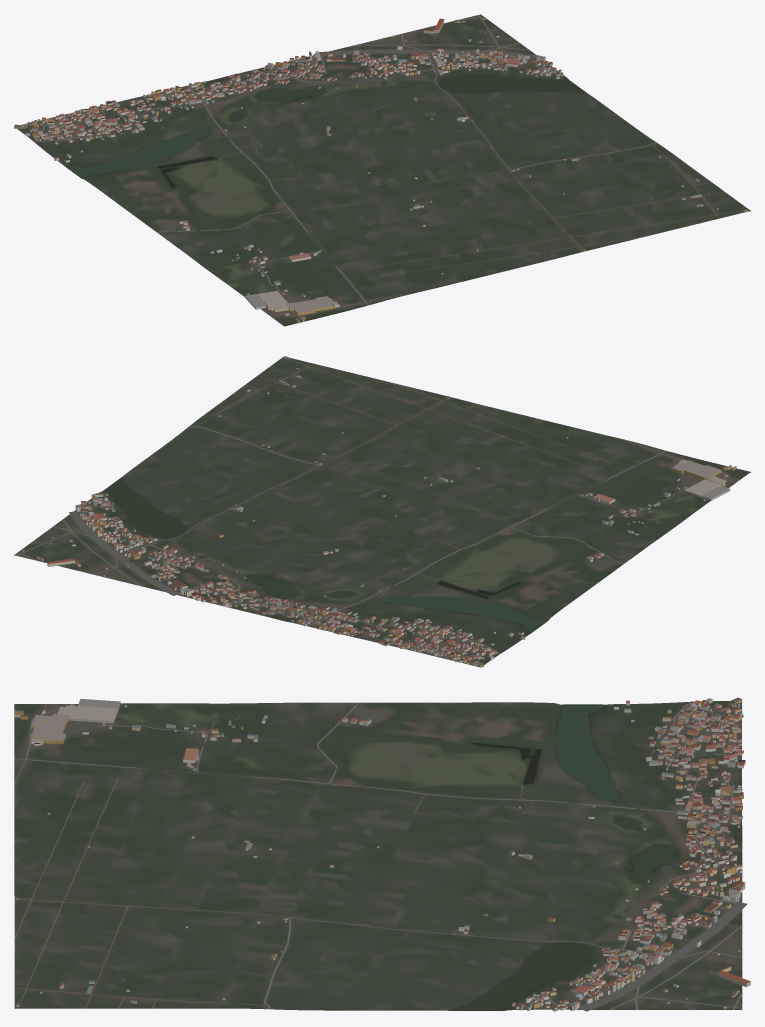
3 renders of one model, top to bottom at view 1: azimuth 30°, elevation 25°; view 2: azimuth 150°, elevation 25°; view 3: azimuth 270°, elevation 25°, orthographic. The views are drawn at different scales.
Parts seen in each view (by area): view 1: ground, buildings, water, roads; view 2: ground, buildings, water, roads; view 3: ground, buildings, water, roads.
Boxes of the visible parts, box(x1,y1,x2,y2) form: ground: box(17, 14, 750, 326); buildings: box(14, 18, 747, 322); water: box(66, 74, 586, 250); roads: box(21, 15, 748, 316); ground: box(14, 356, 750, 667); buildings: box(21, 356, 736, 667); water: box(105, 478, 593, 631); roads: box(16, 357, 727, 664); ground: box(14, 701, 742, 1010); buildings: box(14, 697, 750, 1011); water: box(220, 704, 741, 1010); roads: box(14, 701, 747, 1011).
Bounding box in the file's own units: 1419 × 21.75 × 1420.
